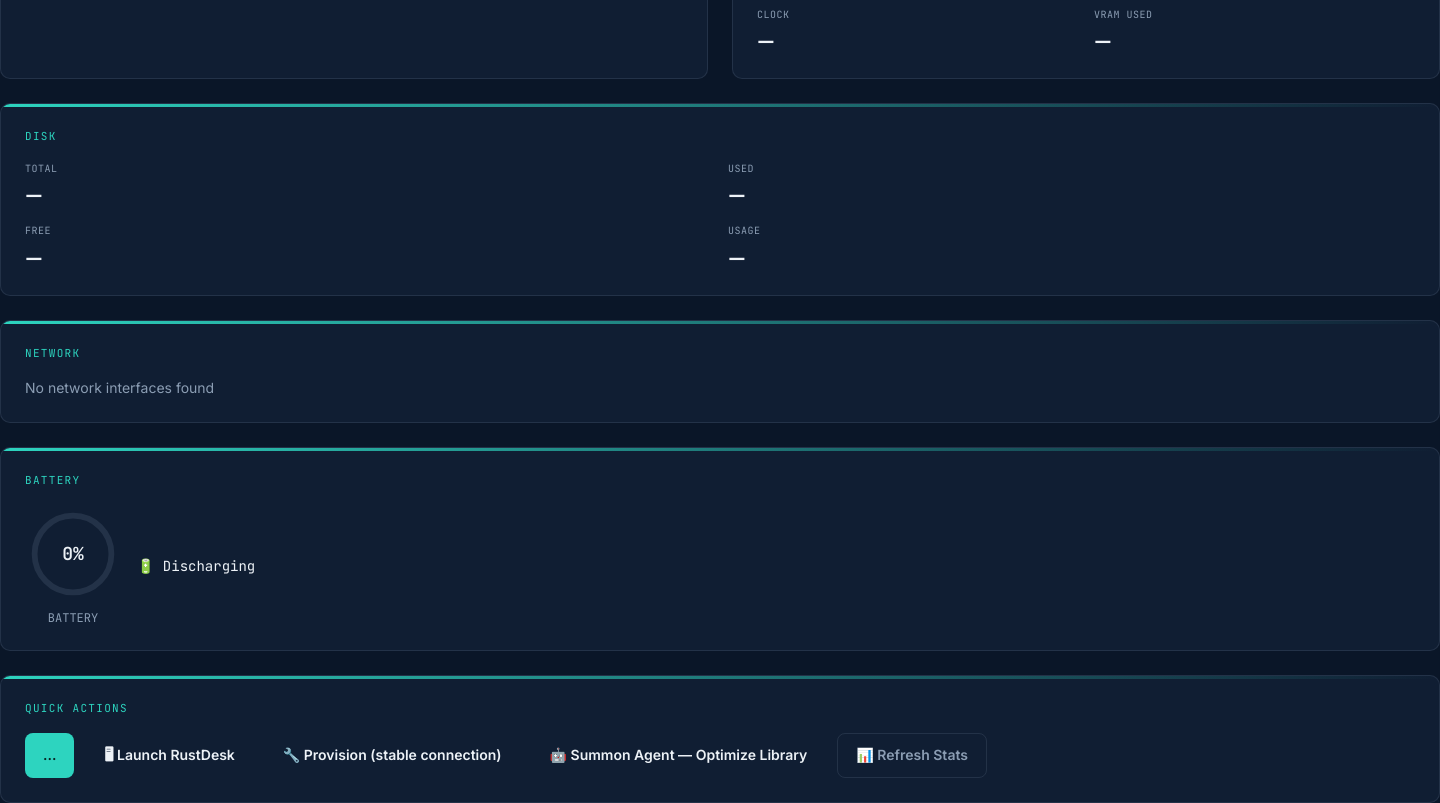
Test: SteamDeckPage › shows an agent error in the status card
(page scrolled)
Click the button "🤖 Summon Agent — Optimize Library".
click(678, 756)  # box [532,733,825,778]
(page scrolled)
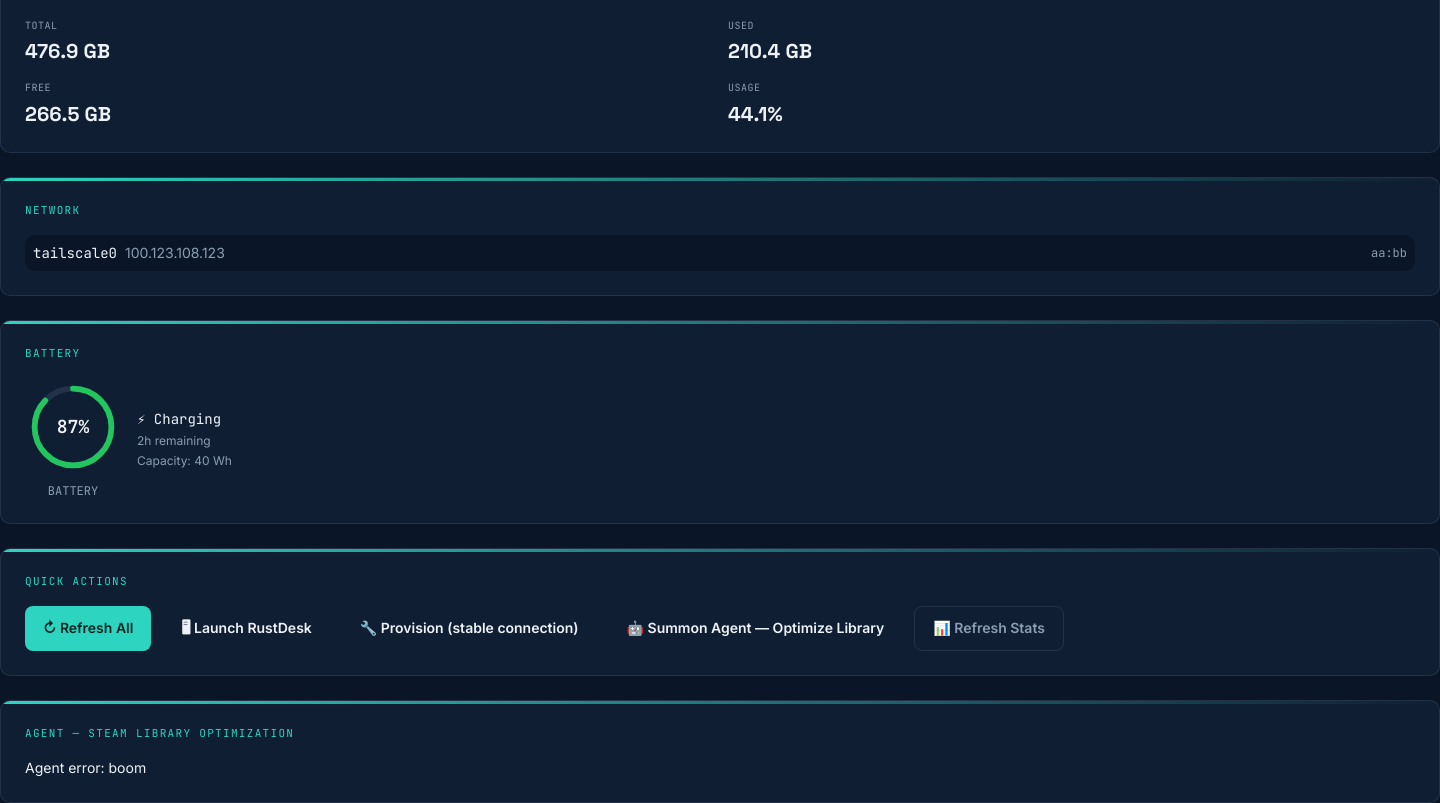
Check: the text "Agent error: boom" is shown, box [25,759,146,776]
